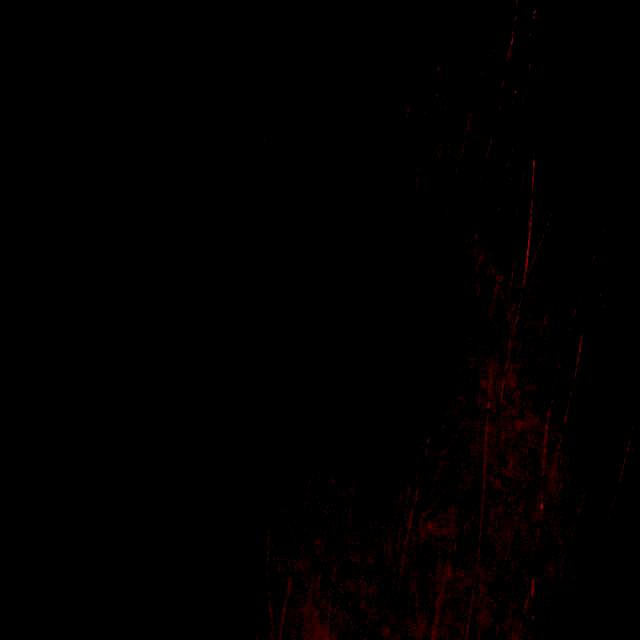VASC: (247, 149, 466, 418)
